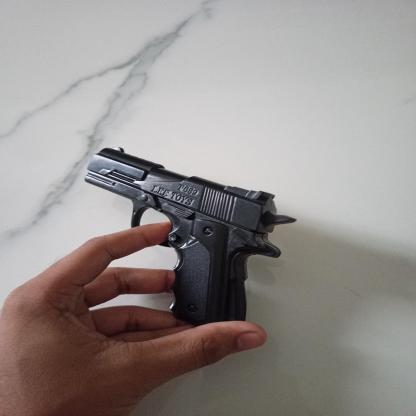handgun: (81, 146, 300, 323)
